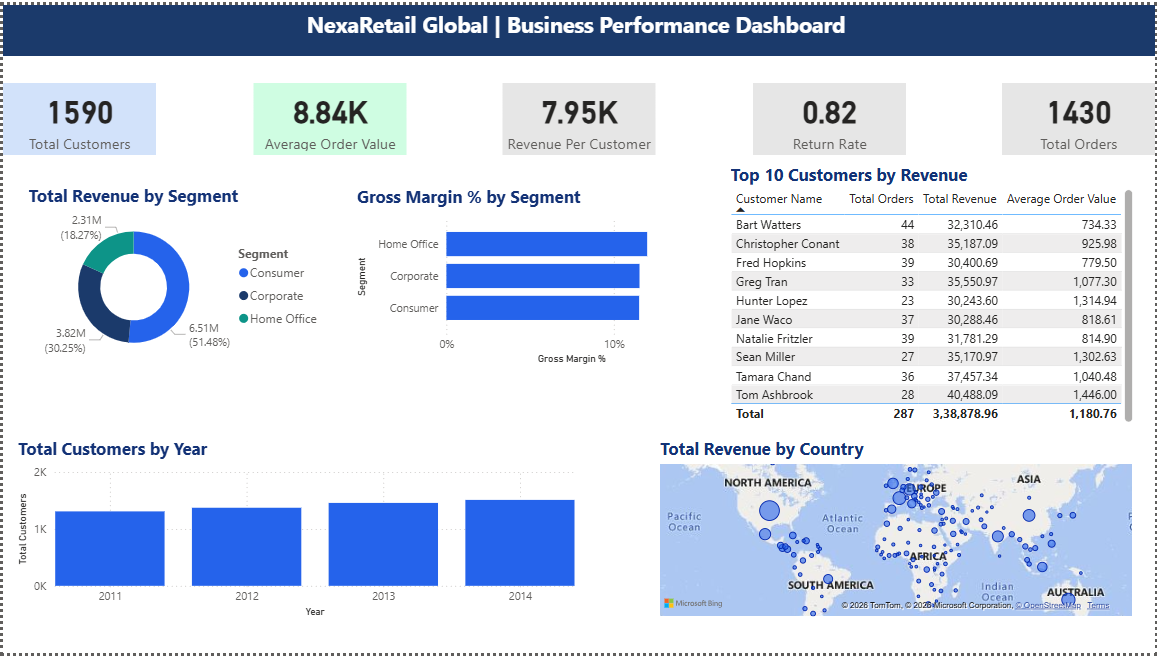

Layout of this report page (visuals, bound fields, positions):
{"tool":"powerbi","page":{"name":"Customer Insights","canvas":[1280,720],"ordinal":4},"visuals":[{"type":"card","fields":{"Values":["_Measures.Total Customers"]},"box":[0,86.7,170,80],"z":0},{"type":"card","fields":{"Values":["_Measures.Total Orders"]},"box":[1110,86.7,170,80],"z":1000},{"type":"card","fields":{"Values":["_Measures.Return Date"]},"box":[832.5,86.7,170,80],"z":2000},{"type":"card","fields":{"Values":["_Measures.Revenue Per Customer"]},"box":[555,86.7,170,80],"z":3000},{"type":"card","fields":{"Values":["_Measures.Average Order Value"]},"box":[277.5,86.7,170,80],"z":4000},{"type":"textbox","box":[0,0,1280,56.7],"z":5000},{"type":"donutChart","fields":{"Category":["orders_cleaned.Segment"],"Y":["_Measures.Total Revenue"]},"box":[23.3,198.3,340,205],"z":6000},{"type":"clusteredColumnChart","fields":{"Y":["_Measures.Total Customers"],"Category":["DateTable.Year"]},"box":[11.3,479.3,628.3,204],"z":7000},{"type":"clusteredBarChart","fields":{"Category":["orders_cleaned.Segment"],"Y":["_Measures.Gross Margin %"]},"box":[388.3,200,400,203.3],"z":8000},{"type":"map","fields":{"Category":["orders_cleaned.Country"],"Size":["_Measures.Total Revenue"]},"box":[725.4,479.3,534.3,204],"z":9000},{"type":"tableEx","title":"Top 10 Customers by Revenue","fields":{"Values":["orders_cleaned.Customer Name","_Measures.Total Orders","_Measures.Total Revenue","_Measures.Average Order Value"]},"box":[803.3,175,456.7,293.3],"z":10000}]}

Visuals, with their boxes in screenshot pixels (x1, y1, x2, y2), scaled from the page's 1280x720 canvas onto the 1157x656 screenshot:
card - _Measures.Total Customers: 0/79/154/152
card - _Measures.Total Orders: 1003/79/1156/152
card - _Measures.Return Date: 753/79/906/152
card - _Measures.Revenue Per Customer: 502/79/655/152
card - _Measures.Average Order Value: 251/79/404/152
textbox: 0/0/1156/52
donutChart - orders_cleaned.Segment x _Measures.Total Revenue: 21/181/328/367
clusteredColumnChart - _Measures.Total Customers x DateTable.Year: 10/437/578/623
clusteredBarChart - orders_cleaned.Segment x _Measures.Gross Margin %: 351/182/713/367
map - orders_cleaned.Country x _Measures.Total Revenue: 656/437/1139/623
"Top 10 Customers by Revenue" tableEx: 726/159/1139/427
